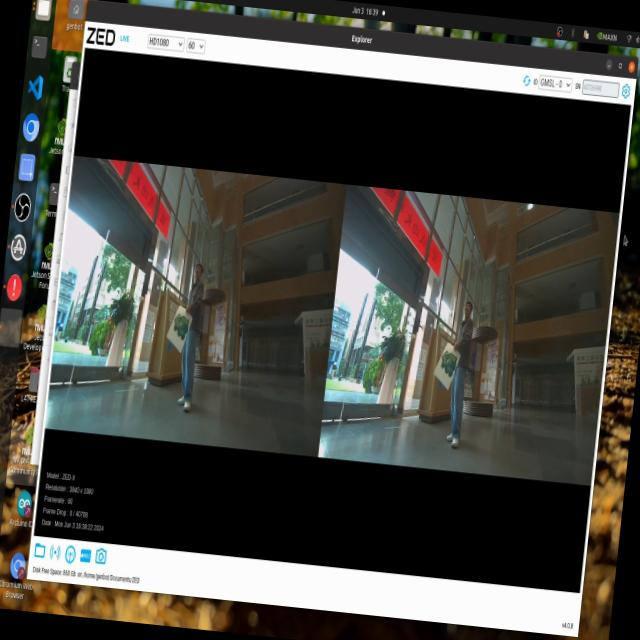green: (170, 310, 192, 346), (438, 348, 459, 379)
